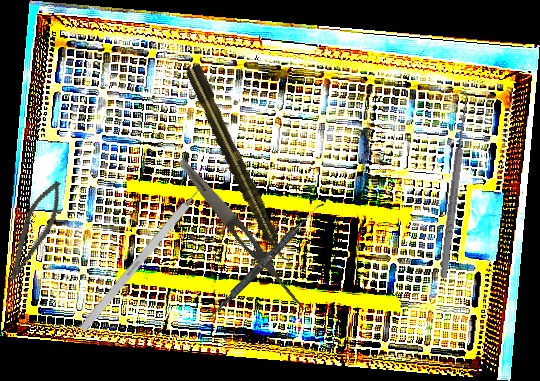Dressing Forceps: (174, 155, 312, 315)
Handpiece: (183, 62, 293, 269)
Hook Surgical: (78, 172, 215, 333), (431, 89, 473, 279)
Micro Scissor: (1, 175, 69, 289)
Spatula Surgical: (206, 197, 325, 325)
